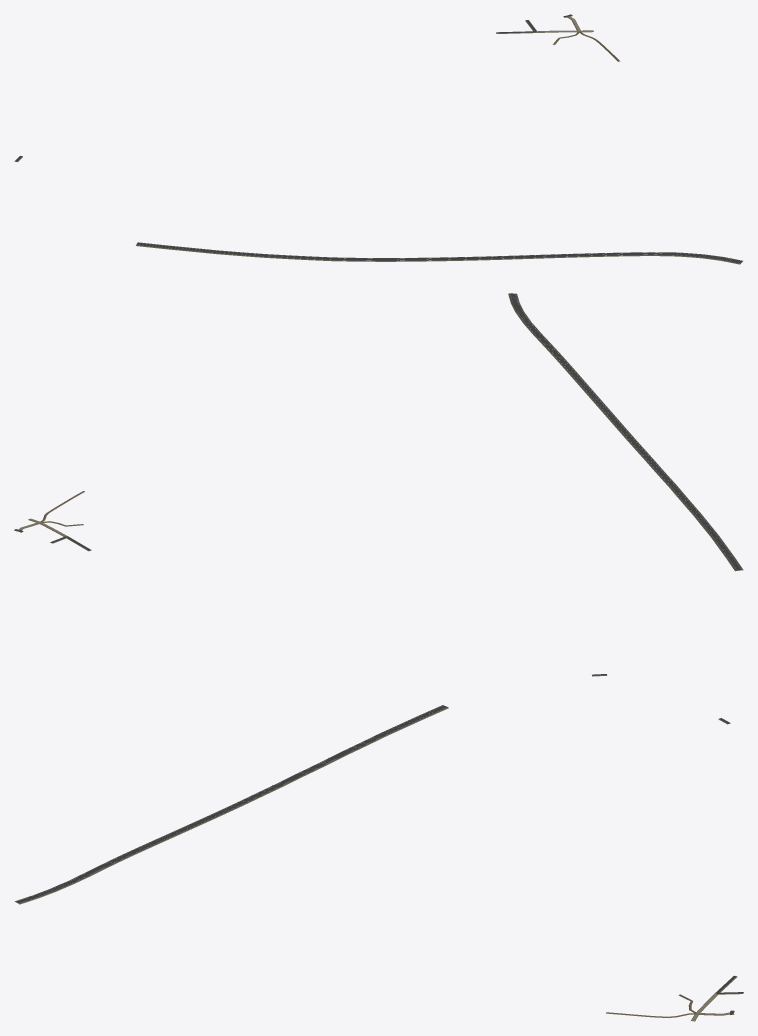
The picture shows the model from 3 angles, top to bottom: view 1: azimuth 30°, elevation 25°; view 2: azimuth 150°, elevation 25°; view 3: azimuth 270°, elevation 25°; orthographic projection. The views are drawn at different scales.
Parts seen in each view (by area): view 1: roads; view 2: roads; view 3: roads.
Boxes of the visible parts, left/top/right/bottom form: roads: left=14, top=14, right=742, bottom=264; roads: left=14, top=293, right=743, bottom=676; roads: left=14, top=705, right=743, bottom=1021.
Size of the model in its own units: 814 by 46.11 by 815.
